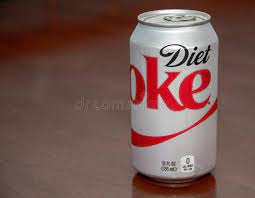can: (126, 7, 220, 186)
